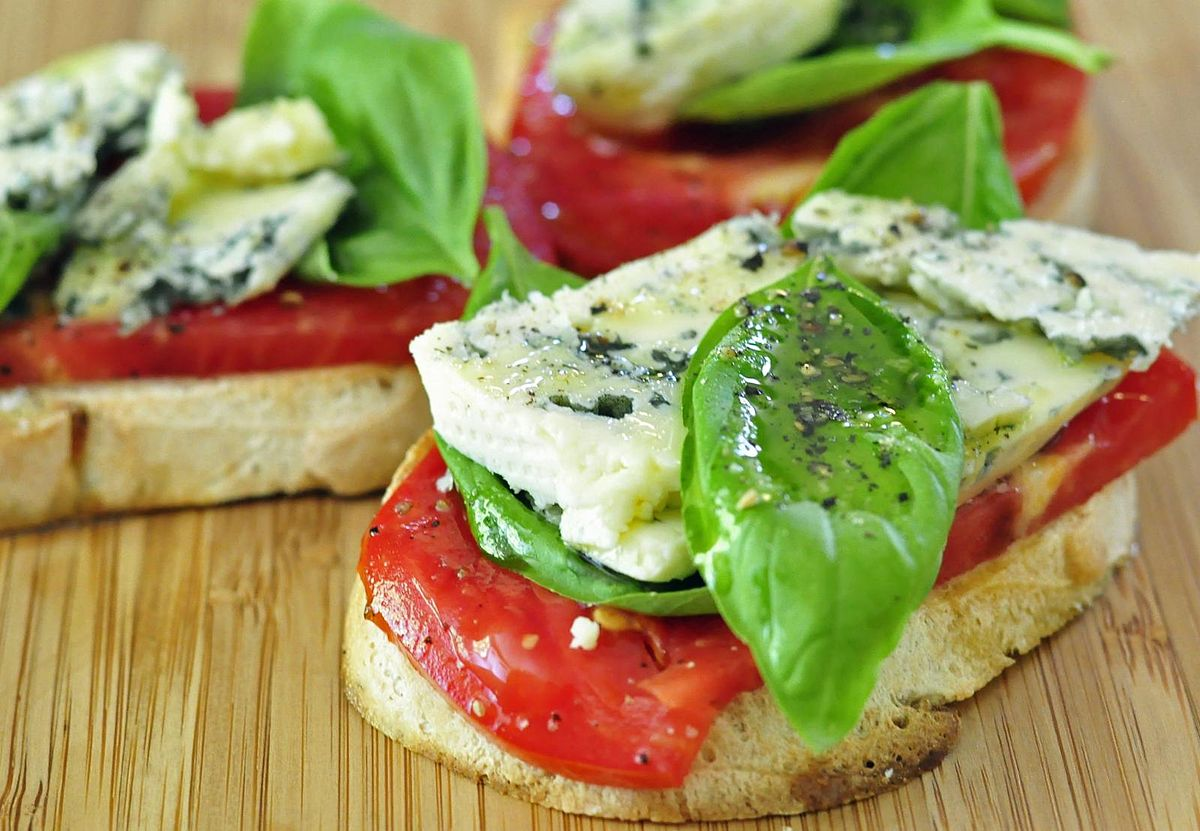cheese: (470, 184, 1114, 534)
